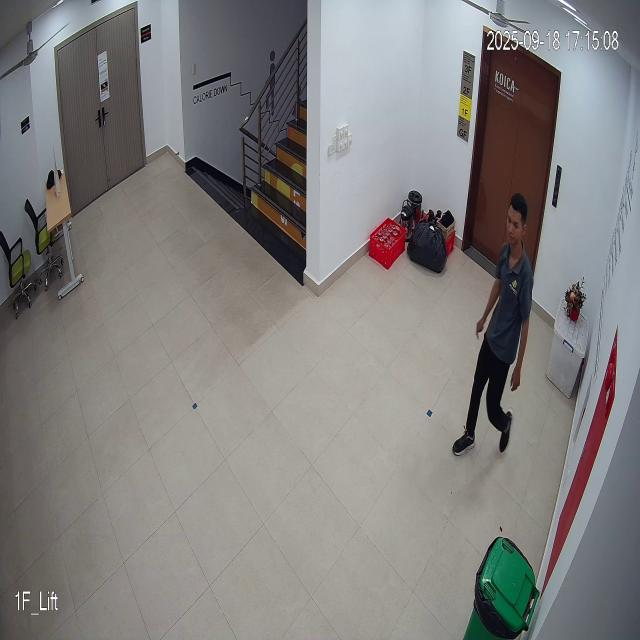face: (503, 191, 528, 249)
